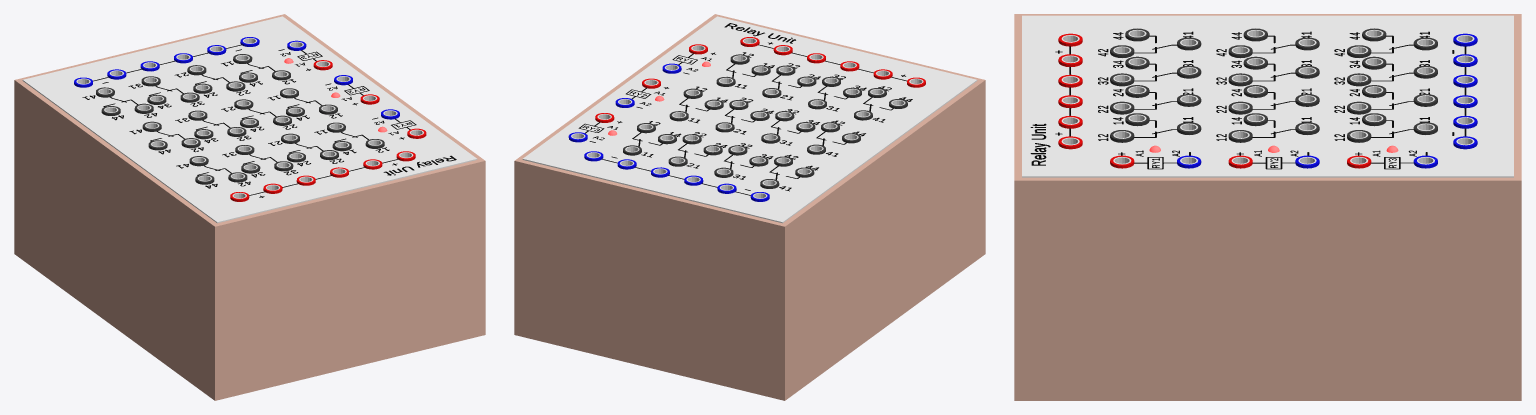
Rendered from relay-module.glb.
The picture shows the model from 3 angles, left to right: view 1: azimuth 30°, elevation 25°; view 2: azimuth 150°, elevation 25°; view 3: azimuth 270°, elevation 25°; orthographic projection. The views are drawn at different scales.
Parts seen in each view (by area): view 1: PF_RELAY__go883__mesh0, RelayNamePlate__go869__mesh0, RelayNamePlate__go869__mesh3, Sticker__go1077__mesh0, RelayNamePlate__go869__mesh1, RelayNamePlate__go869__mesh2; view 2: PF_RELAY__go883__mesh0, RelayNamePlate__go869__mesh0, RelayNamePlate__go869__mesh3, Sticker__go1077__mesh0, RelayNamePlate__go869__mesh2, RelayNamePlate__go869__mesh1; view 3: PF_RELAY__go883__mesh0, RelayNamePlate__go869__mesh0, RelayNamePlate__go869__mesh3, Sticker__go1077__mesh0, RelayNamePlate__go869__mesh1, RelayNamePlate__go869__mesh2.
Part boxes in pixels (left/top/right/bottom): PF_RELAY__go883__mesh0: left=14, top=14, right=485, bottom=400; RelayNamePlate__go869__mesh0: left=22, top=16, right=477, bottom=223; RelayNamePlate__go869__mesh3: left=96, top=54, right=384, bottom=184; Sticker__go1077__mesh0: left=82, top=44, right=456, bottom=197; RelayNamePlate__go869__mesh1: left=230, top=60, right=426, bottom=201; RelayNamePlate__go869__mesh2: left=74, top=37, right=399, bottom=119; PF_RELAY__go883__mesh0: left=514, top=14, right=985, bottom=400; RelayNamePlate__go869__mesh0: left=522, top=16, right=977, bottom=223; RelayNamePlate__go869__mesh3: left=623, top=54, right=907, bottom=188; Sticker__go1077__mesh0: left=578, top=23, right=912, bottom=195; RelayNamePlate__go869__mesh2: left=568, top=63, right=769, bottom=201; RelayNamePlate__go869__mesh1: left=595, top=37, right=925, bottom=122; PF_RELAY__go883__mesh0: left=1014, top=14, right=1521, bottom=400; RelayNamePlate__go869__mesh0: left=1022, top=15, right=1513, bottom=177; RelayNamePlate__go869__mesh3: left=1110, top=28, right=1437, bottom=142; Sticker__go1077__mesh0: left=1030, top=31, right=1466, bottom=169; RelayNamePlate__go869__mesh1: left=1058, top=33, right=1371, bottom=168; RelayNamePlate__go869__mesh2: left=1177, top=33, right=1477, bottom=168.
Size of the model in its own units: 0.13 by 0.082 by 0.167.
Materials: 7 (5 with a texture image).
